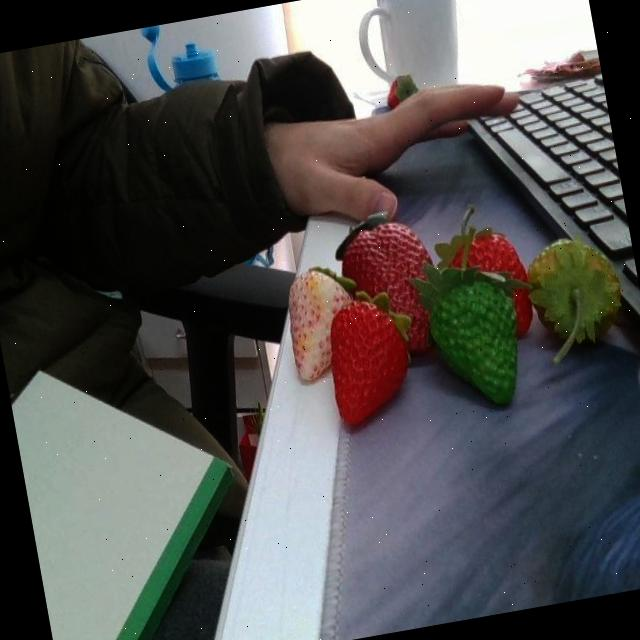strawberry: (332, 207, 446, 356), (421, 272, 528, 414), (319, 288, 417, 424), (276, 264, 358, 378)
